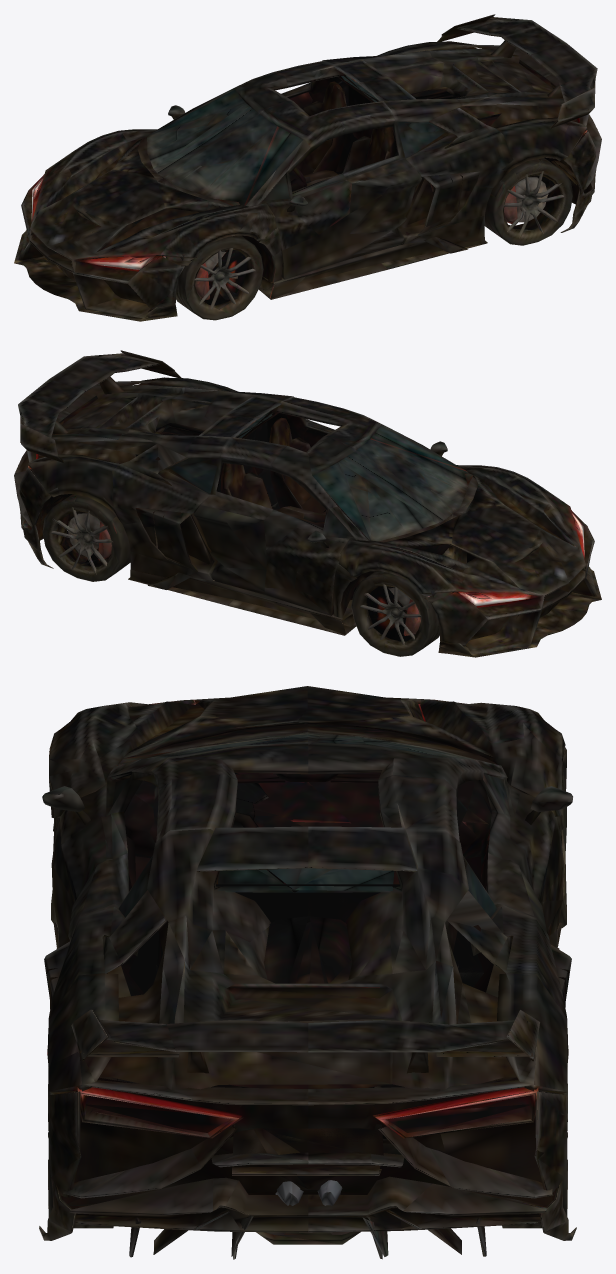
The model's file is wrecked-car.glb.
The picture shows the model from 3 angles, top to bottom: view 1: azimuth 30°, elevation 25°; view 2: azimuth 150°, elevation 25°; view 3: azimuth 270°, elevation 25°; orthographic projection. The views are drawn at different scales.
Visible parts, largest first — view 1: geometry_0; view 2: geometry_0; view 3: geometry_0.
Part boxes in pixels (x1,y1,x2,y2): geometry_0: (14, 14, 601, 321); geometry_0: (14, 350, 601, 657); geometry_0: (39, 686, 576, 1259).
Bounding box in the file's own units: 0.9536 × 0.2412 × 0.4136.
1 material, 1 textured.
